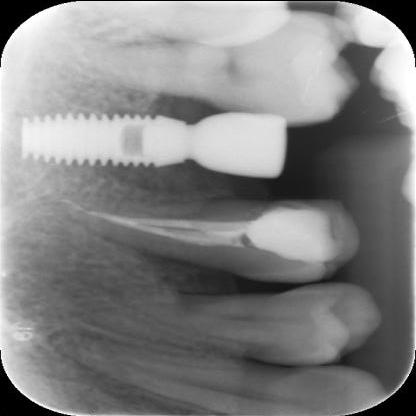Bicon: (20, 102, 187, 183)
